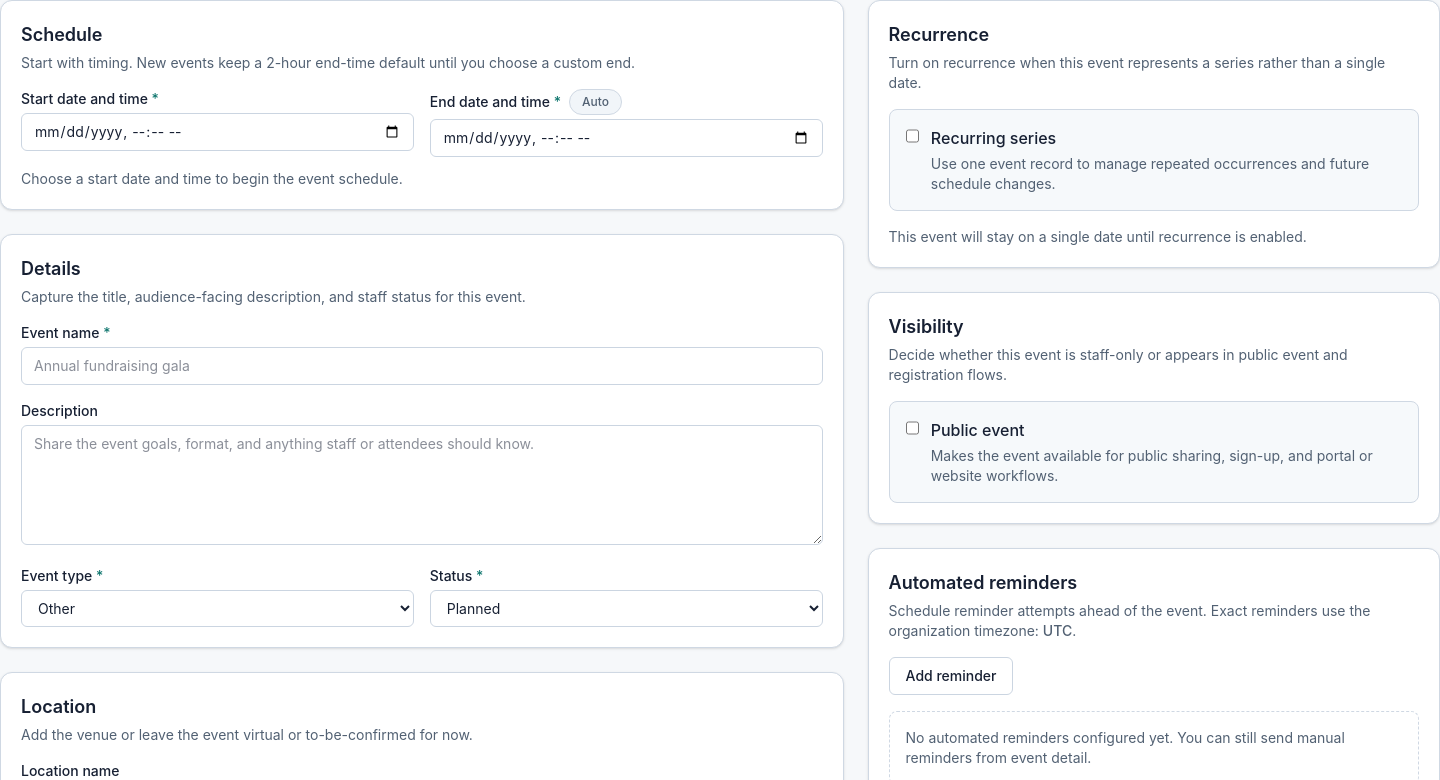
Test case: EventEditorForm › restores the two-hour default when the end time is cleared
Type "2026-06-15T10:00" into the field labelled "Start date and time *" at {"x": 217, "y": 132}, box [21,113,414,151]
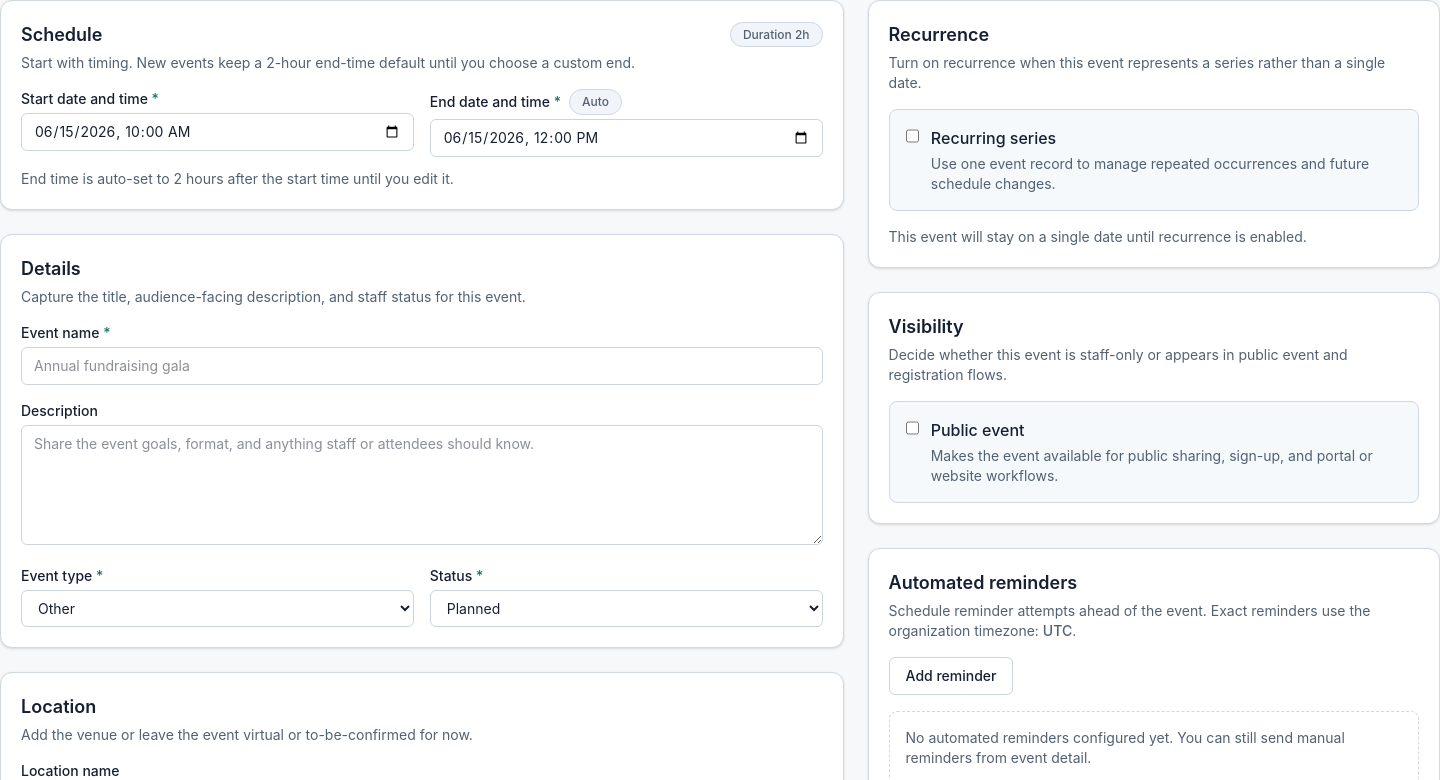
Replace the text in the field labelled "End date and time * Auto" with "2026-06-15T12:45" at {"x": 626, "y": 138}, box [430,119,823,157]
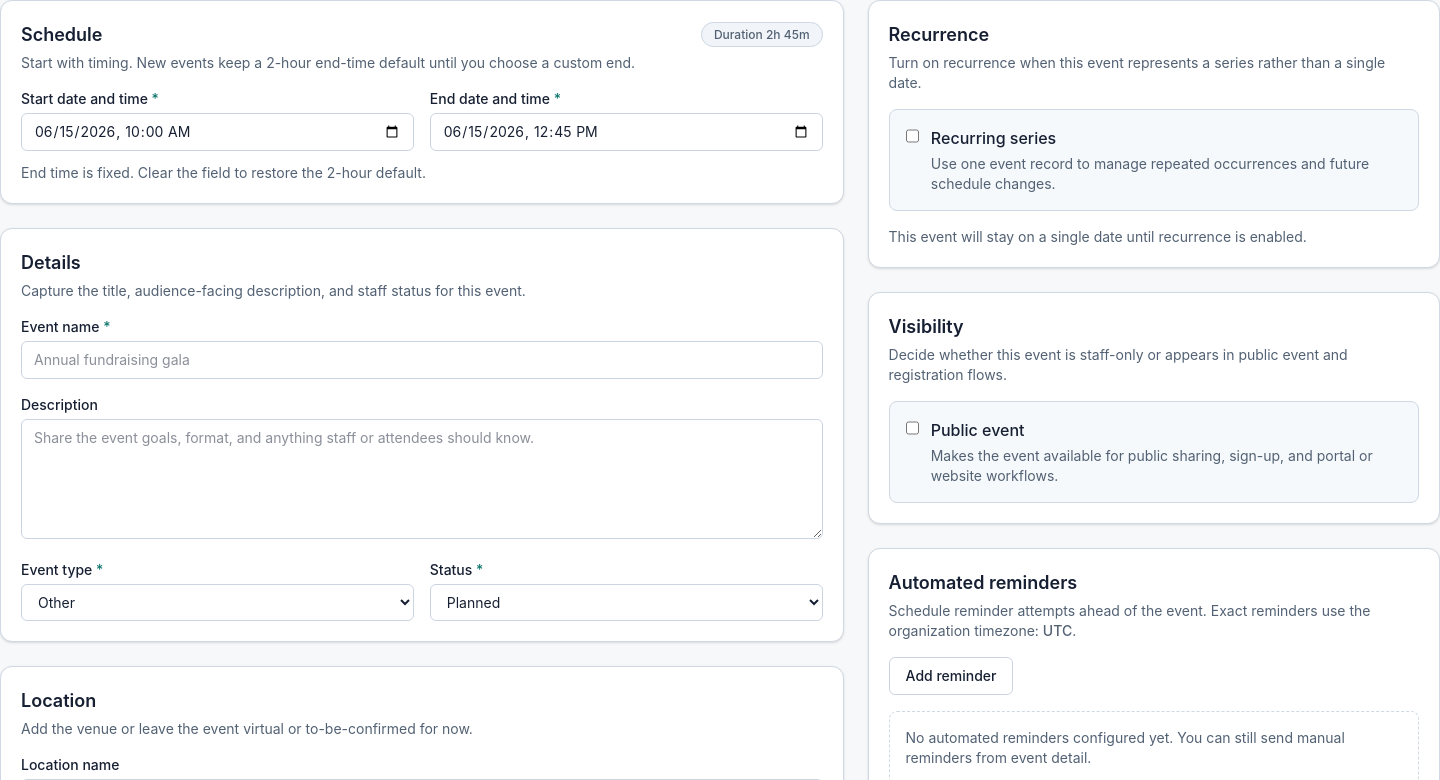
Clear the field labelled "End date and time *" at {"x": 626, "y": 132}, box [430,113,823,151]
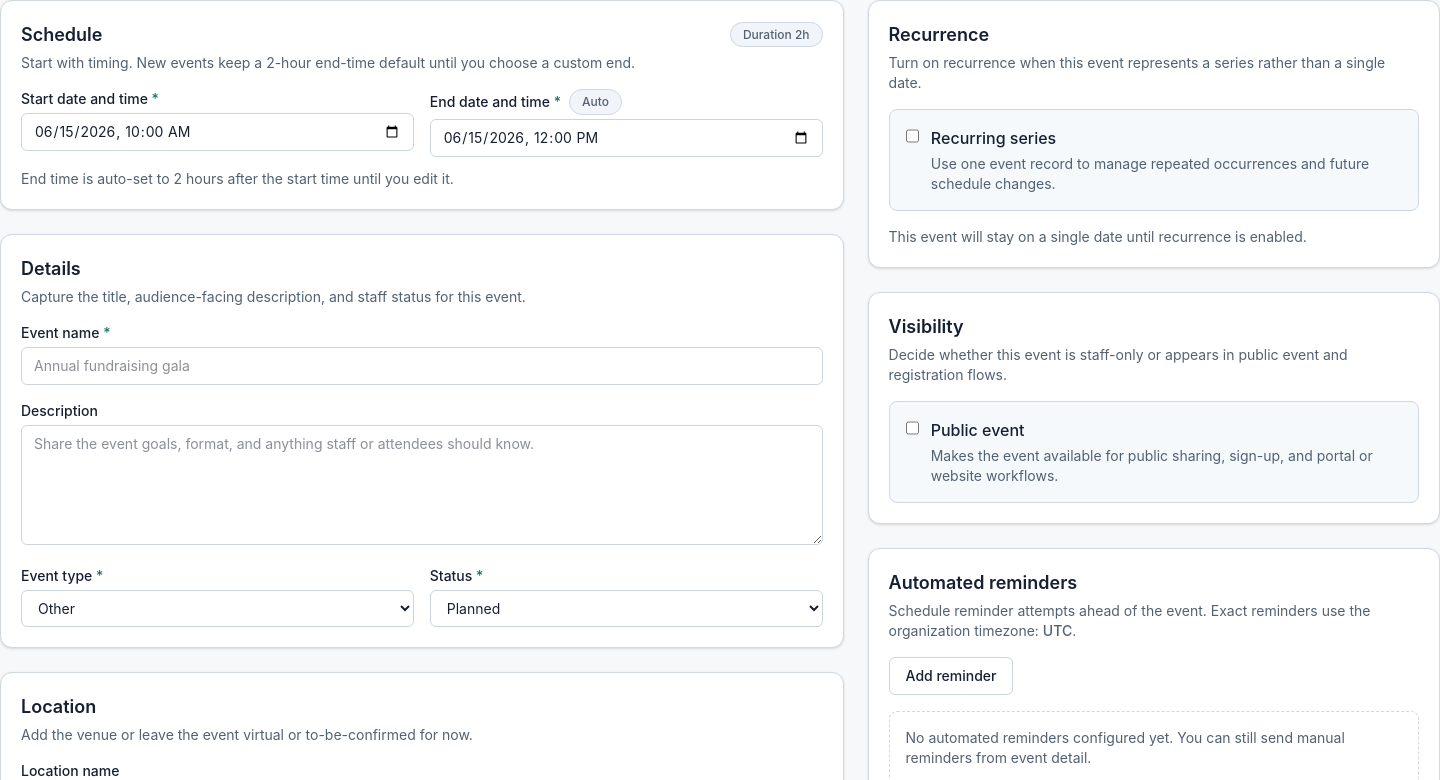
expect the field labelled "End date and time * Auto" holds "2026-06-15T12:00": met, box [430,119,823,157]
